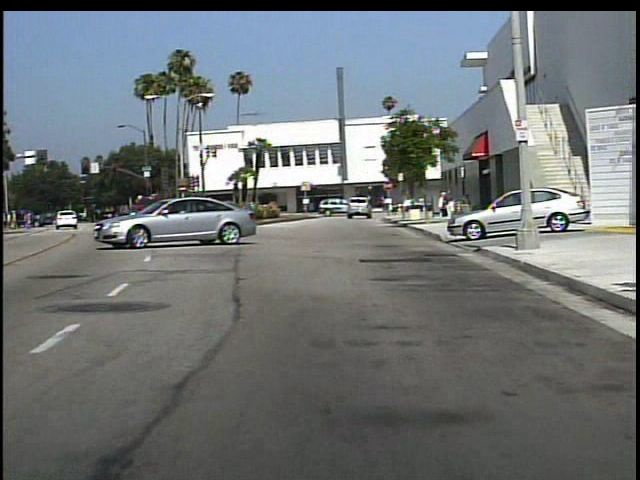person: (444, 188, 459, 224), (437, 192, 448, 220), (460, 191, 473, 205)
